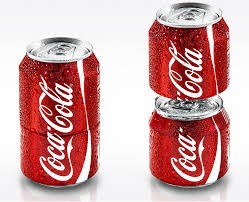can: (144, 1, 240, 191), (17, 38, 107, 192)
